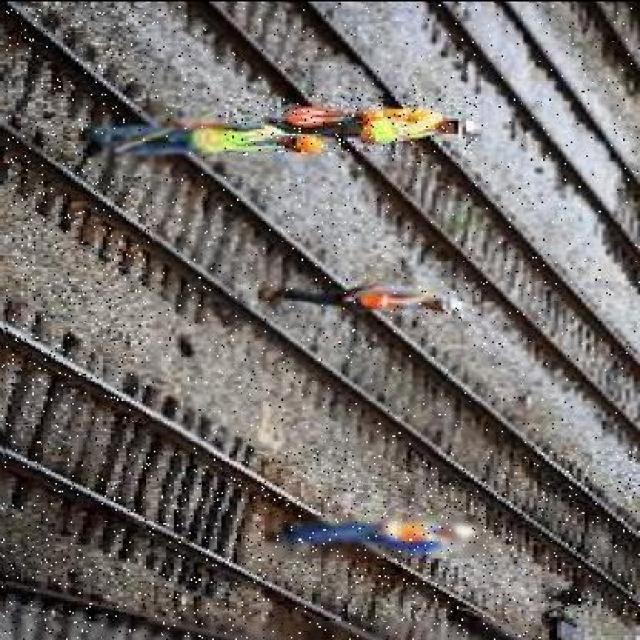danger: (92, 106, 337, 172), (225, 92, 478, 154), (265, 514, 484, 556), (258, 288, 471, 307)
rail: (6, 0, 640, 617), (154, 0, 639, 448), (2, 314, 541, 639)
